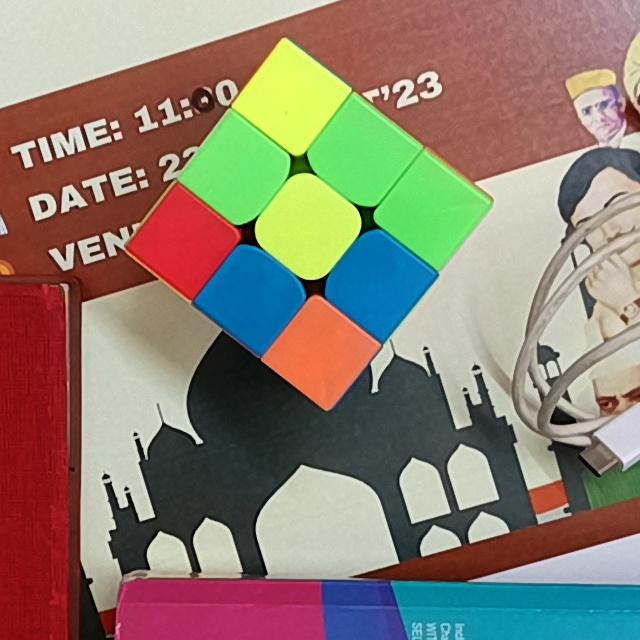tile: (347, 252, 408, 314), (402, 178, 461, 239), (209, 140, 268, 200), (331, 124, 391, 182), (279, 197, 339, 255), (222, 267, 284, 321), (155, 212, 212, 270), (294, 323, 350, 382), (263, 69, 319, 126)
